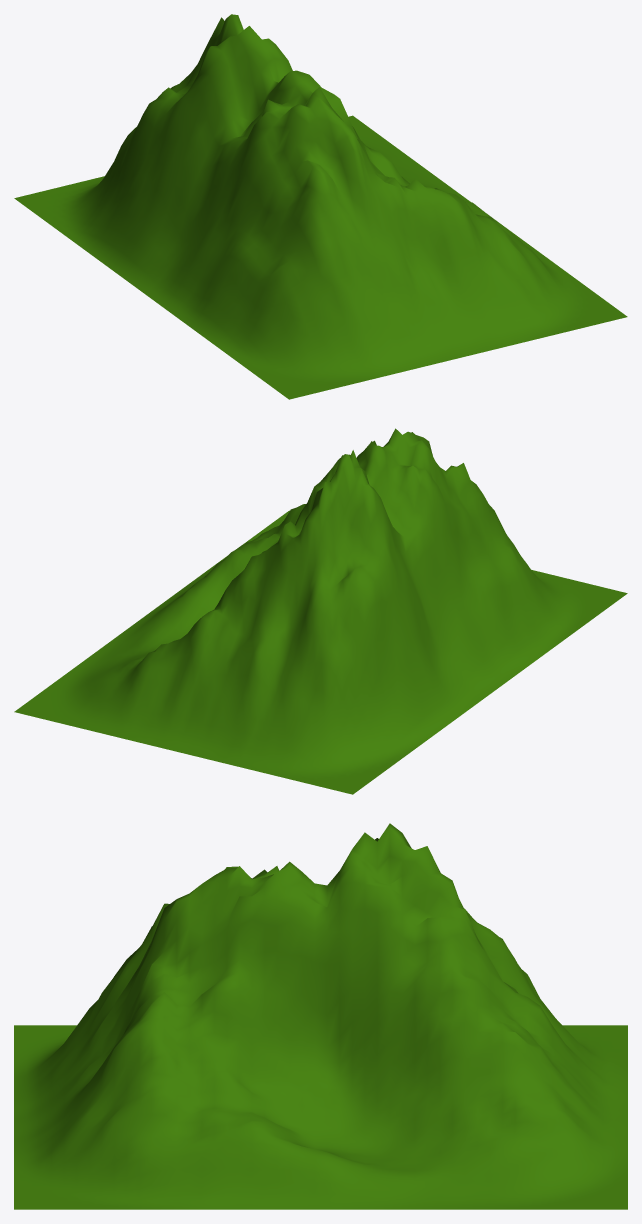
File: mountain.fbx
3 views of the same model, one above another, from view 1: azimuth 30°, elevation 25°; view 2: azimuth 150°, elevation 25°; view 3: azimuth 270°, elevation 25° (orthographic). The views are drawn at different scales.
Visible parts, largest first — view 1: Landscape; view 2: Landscape; view 3: Landscape.
Boxes of the visible parts, x1,y1,x2,y2 form: Landscape: [14, 14, 627, 399]; Landscape: [14, 428, 627, 794]; Landscape: [14, 823, 627, 1209].
Size of the model in its own units: 547 by 363 by 769.
